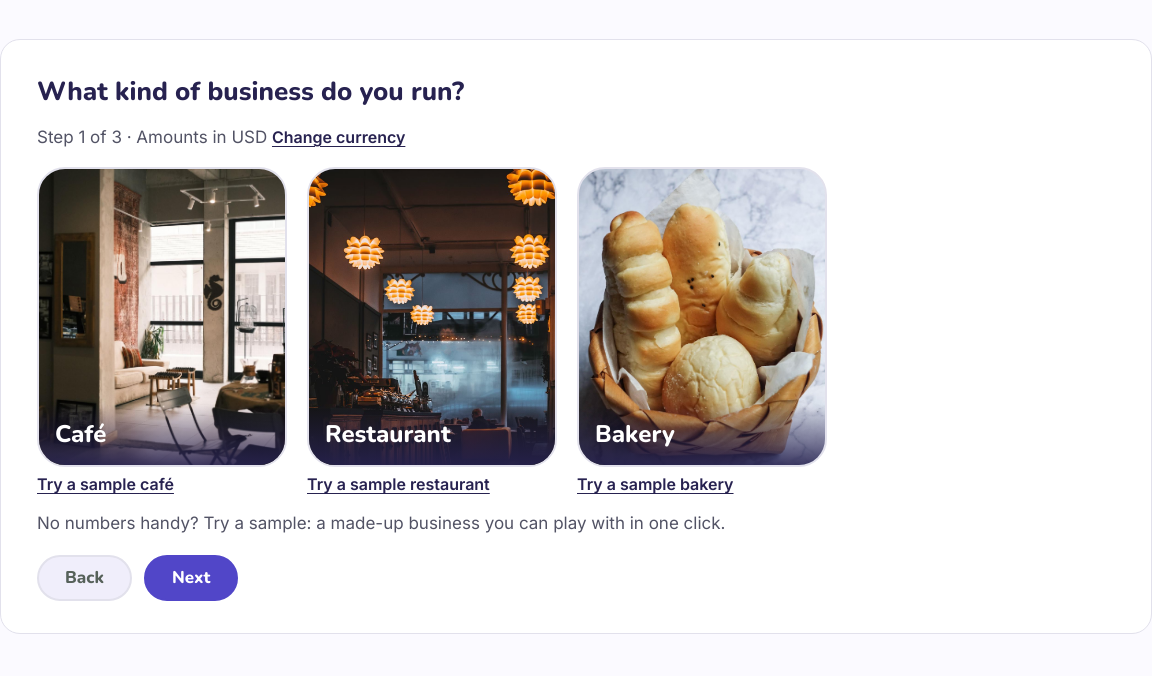
Test: start screen: the four questions › sends the four answers, then shows the engine's month and what was assumed
(page scrolled)
Click the button "Café" at (162, 317), box [37, 167, 287, 467]
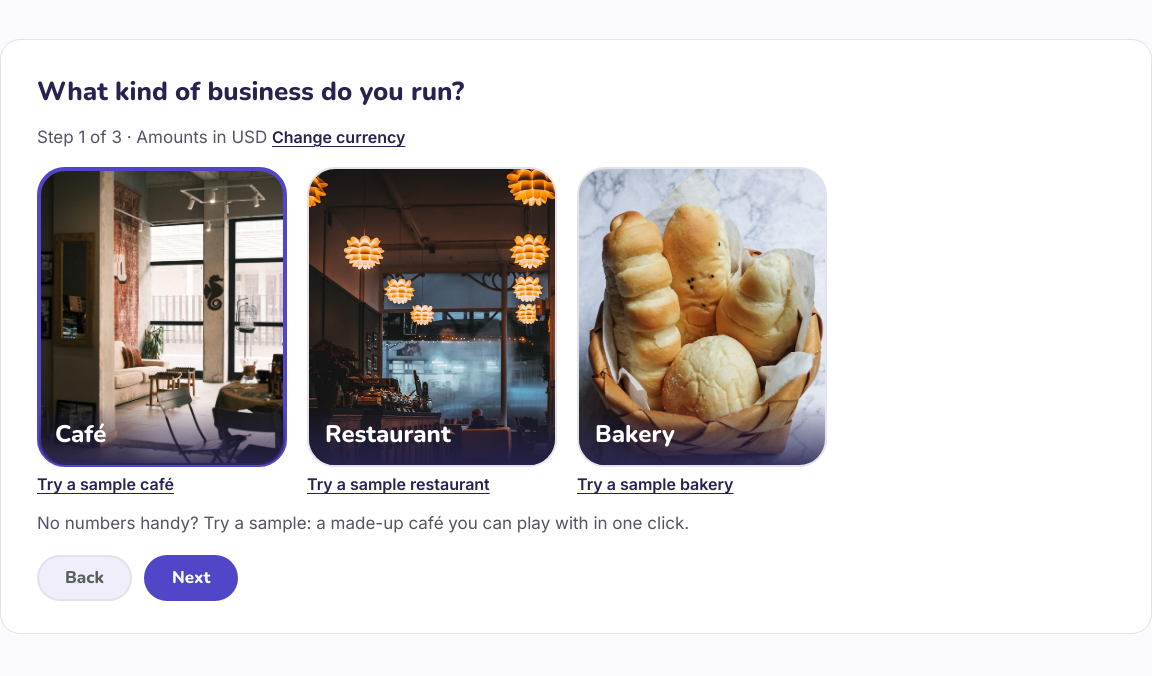
Click the button "Next" at (191, 578), box [144, 554, 238, 601]
(page scrolled)
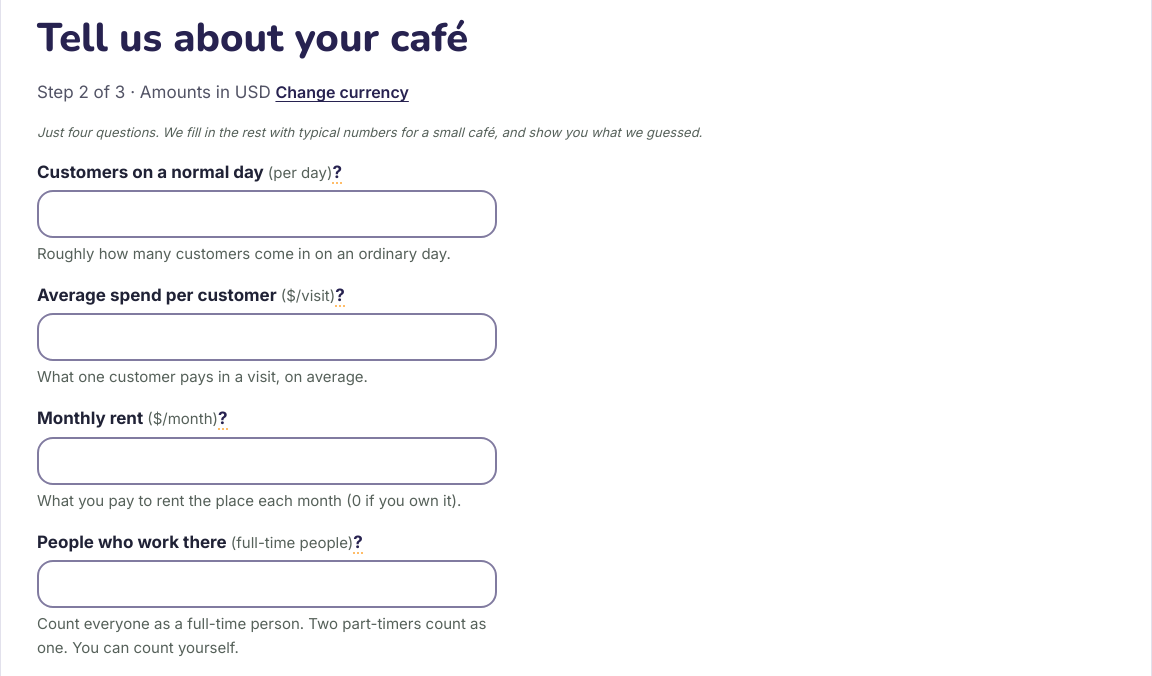
Type "150" into the field labelled "Customers on a normal day (per day)?" at (267, 214), box [37, 190, 497, 238]
Type "7.5" into the field labelled "Average spend per customer ($/visit)?" at (267, 337), box [37, 313, 497, 361]
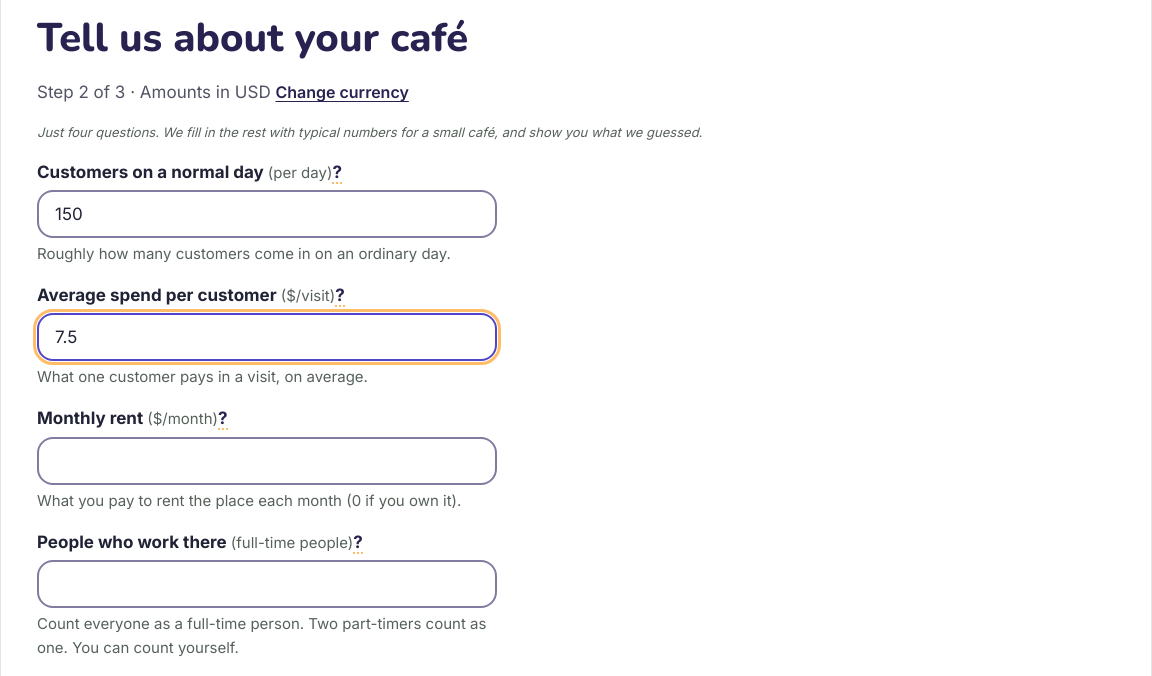
Type "3000" into the field labelled "Monthly rent ($/month)?" at (267, 460), box [37, 436, 497, 484]
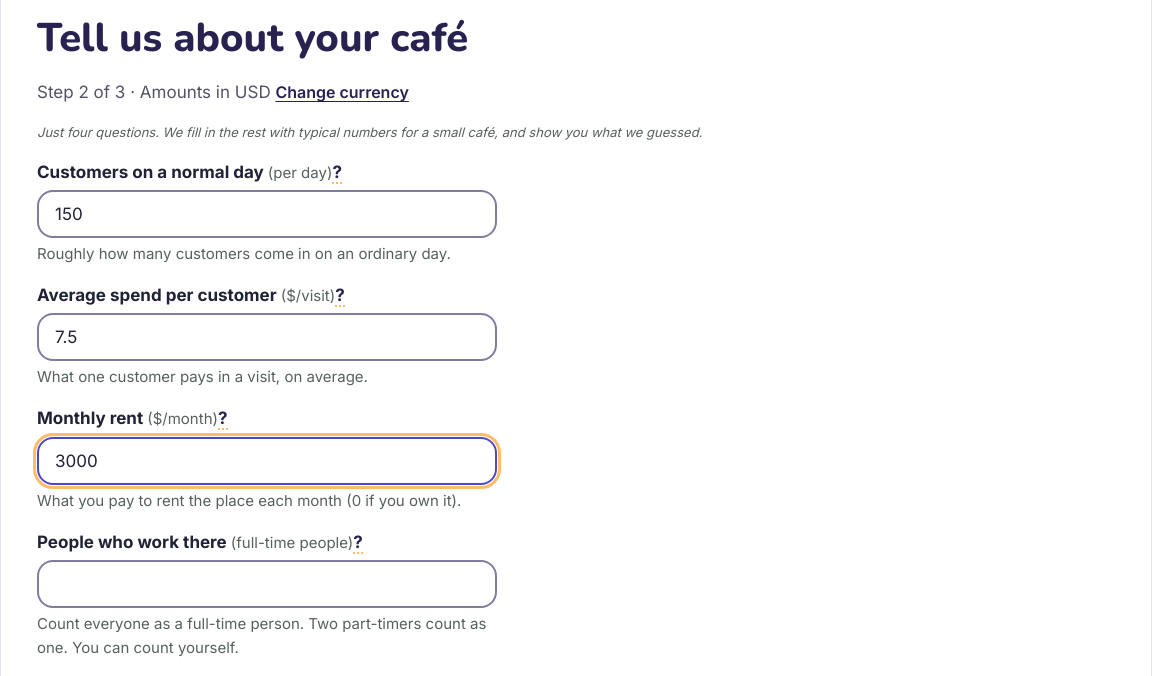
Type "4" into the field labelled "People who work there (full-time people)?" at (267, 584), box [37, 560, 497, 608]
(page scrolled)
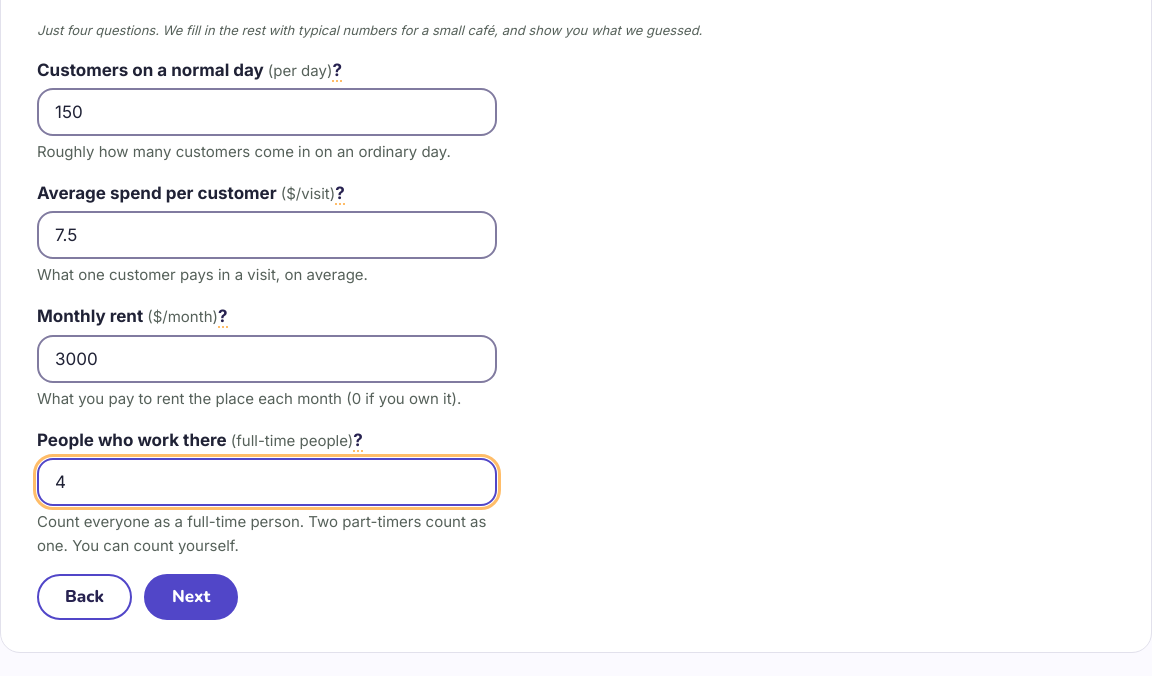
Click the button "Next" at (191, 597), box [144, 574, 238, 620]
(page scrolled)
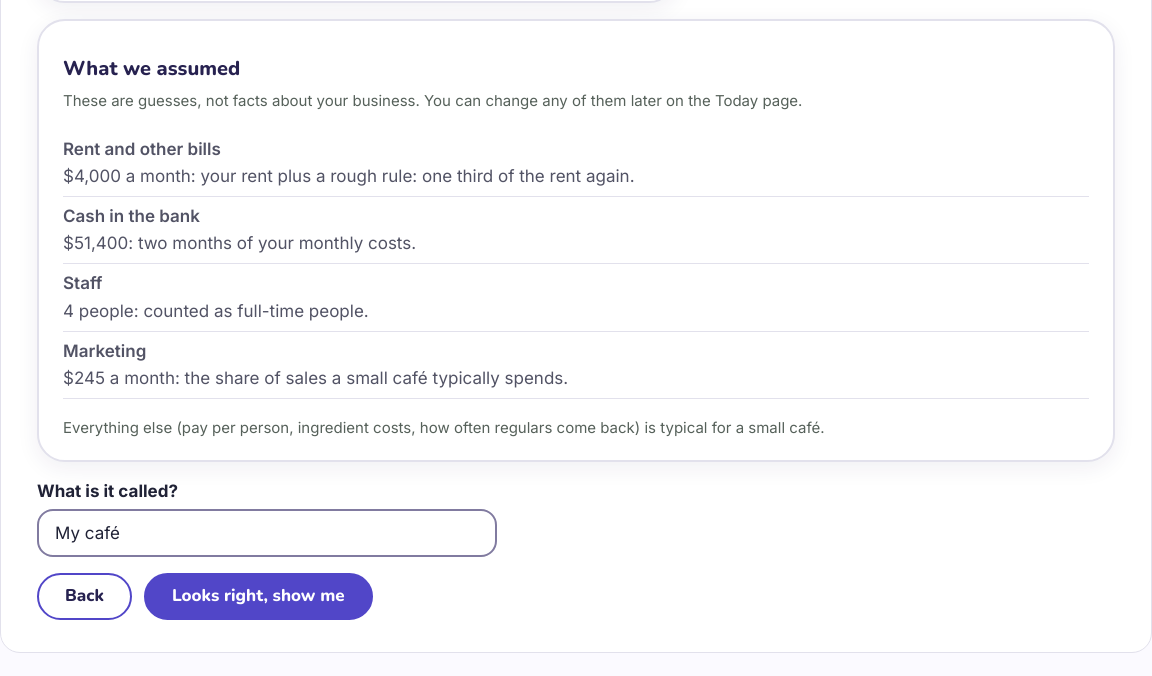
Expected: the heading "What we assumed" is shown, [63, 55, 240, 82]
Expected: the text "$51,400: two months of your monthly costs." is shown, [63, 233, 416, 253]
Expected: the text "$4,000 a month: your rent plus a rough rule" is shown, [63, 166, 634, 186]
